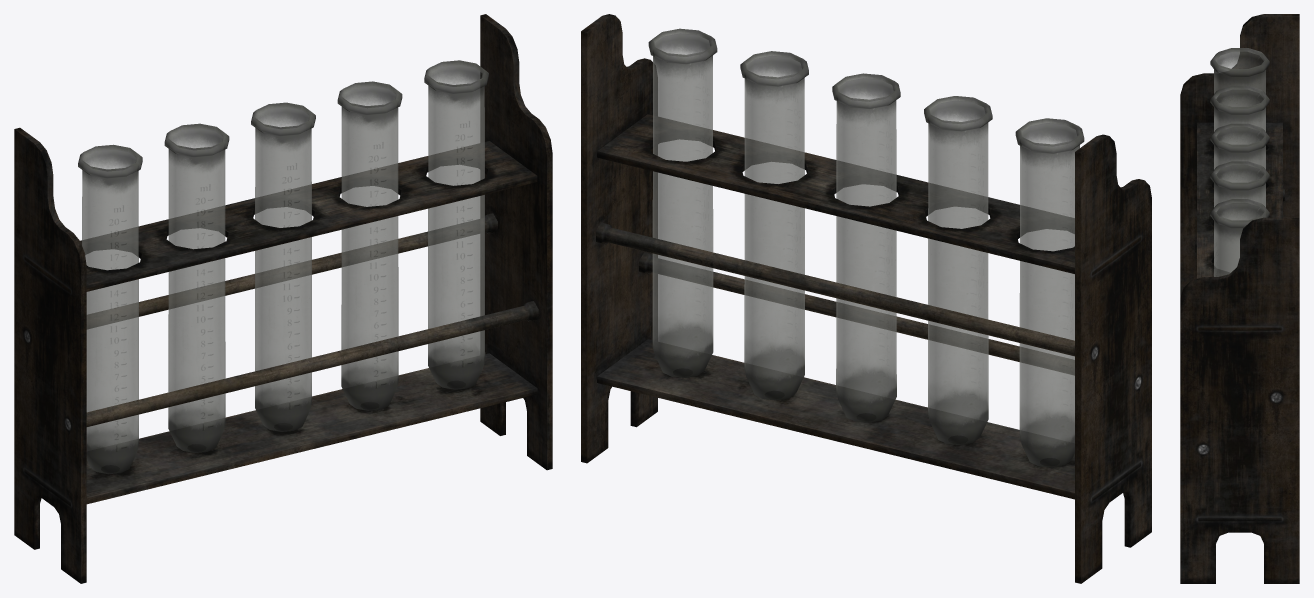
Rendered from tube-rack.glb.
3 views of the same model, side by side, from view 1: azimuth 30°, elevation 25°; view 2: azimuth 150°, elevation 25°; view 3: azimuth 270°, elevation 25° (orthographic). The views are drawn at different scales.
Parts seen in each view (by area): view 1: vial_lp, side_lp, shelf_lp, rod_lp; view 2: vial_lp, side_lp, shelf_lp, rod_lp; view 3: side_lp, vial_lp, shelf_lp.
Part boxes in pixels (x1,y1,x2,y2): vial_lp: (78,60,488,474); side_lp: (14,14,552,583); shelf_lp: (80,141,537,504); rod_lp: (86,213,538,426); vial_lp: (648,28,1084,467); side_lp: (581,14,1151,583); shelf_lp: (597,114,1074,499); rod_lp: (596,222,1074,375); side_lp: (1180,14,1299,583); vial_lp: (1210,48,1269,276); shelf_lp: (1197,122,1282,278).
Bounding box in the file's own units: 2.04 × 1.68 × 0.5.
Materials: 1 (1 with a texture image).
